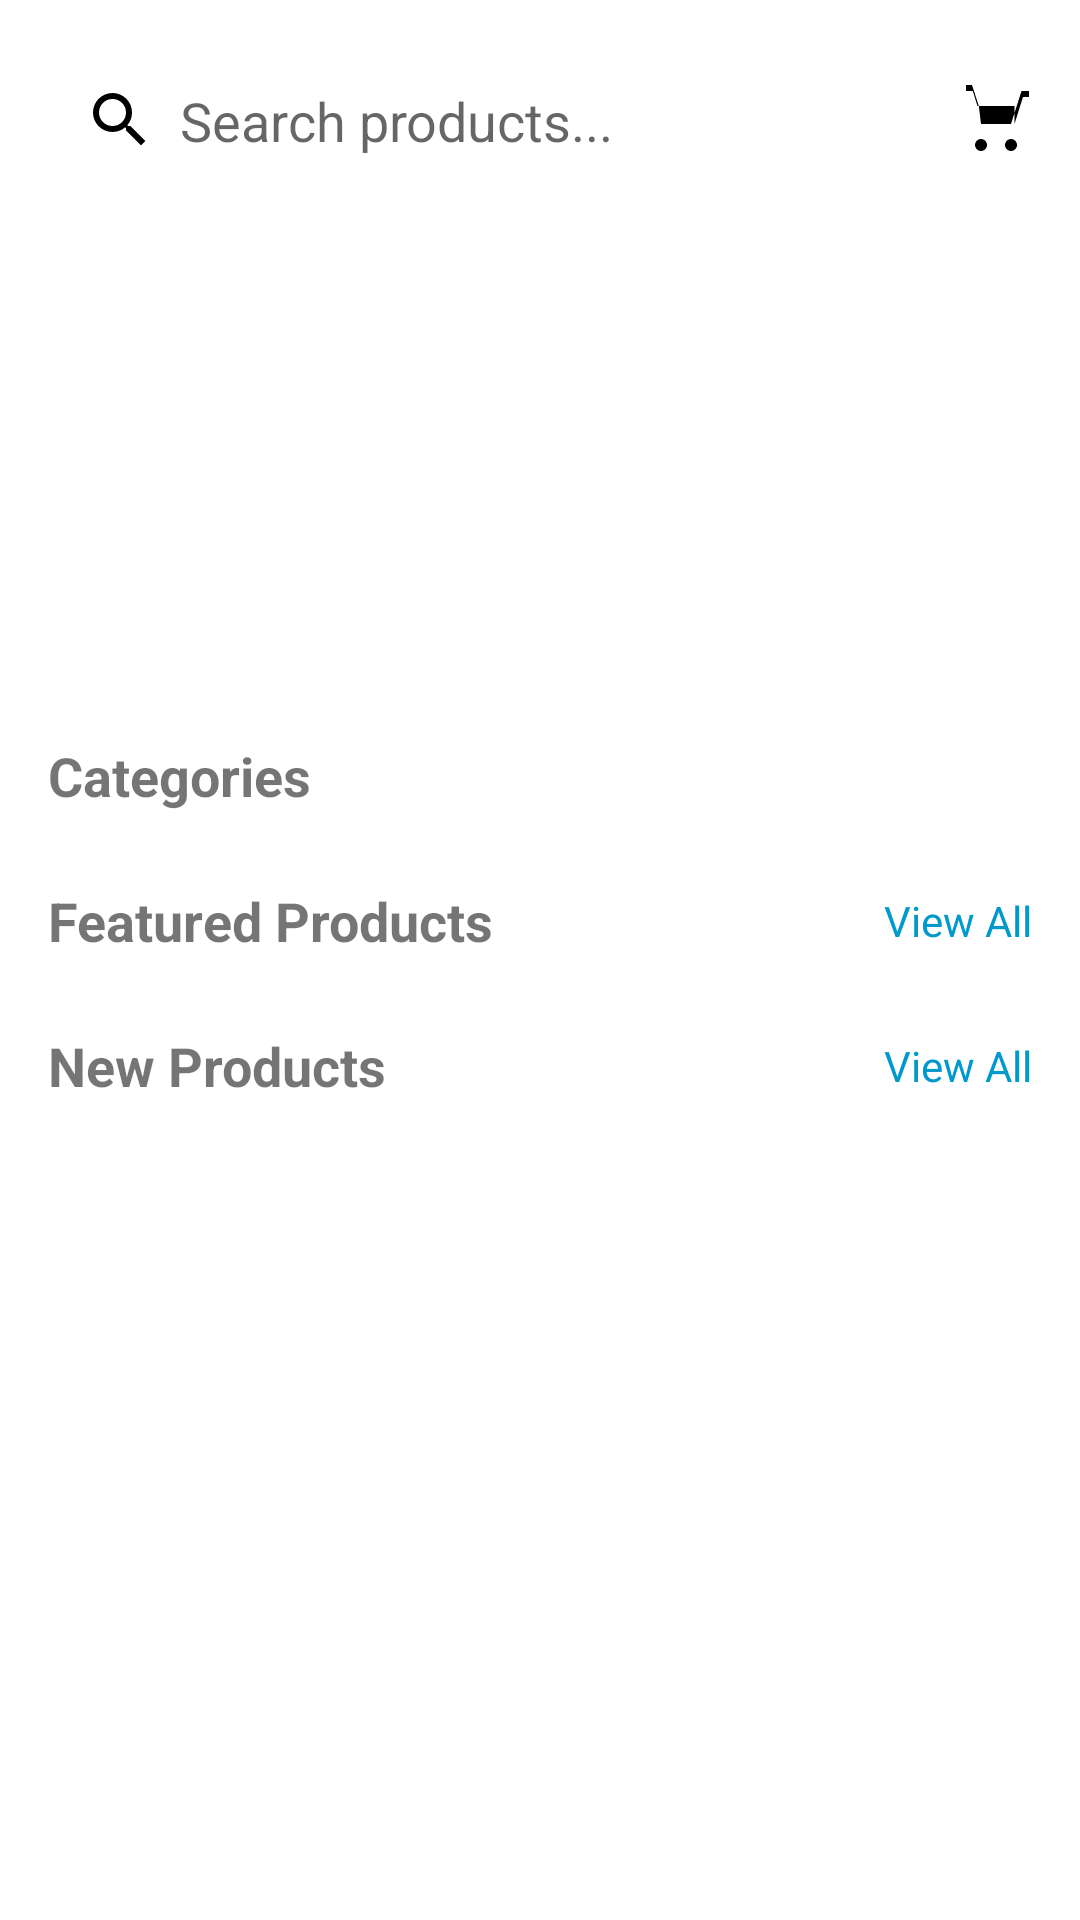

Locate icon controls on the screen. Image size 1080 x 1920, boxes as (x1, y1, x2, y2).
cart: (966, 85, 1029, 151)
